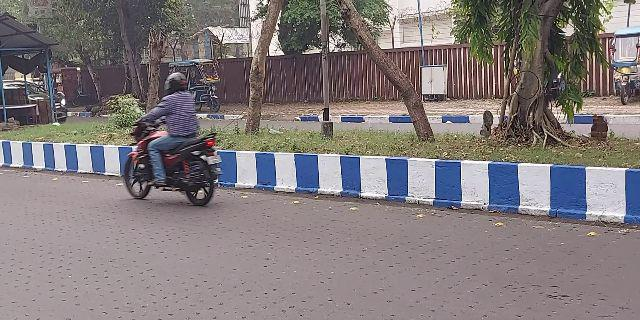Motorbike: (137, 72, 230, 211)
